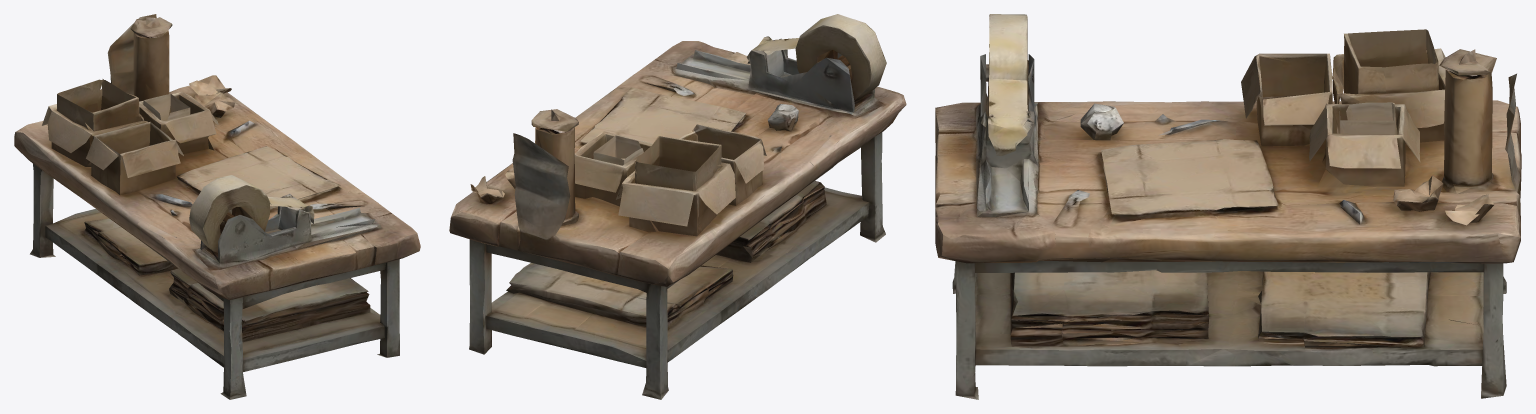
The model's file is bancada.glb.
The picture shows the model from 3 angles, left to right: view 1: azimuth 30°, elevation 25°; view 2: azimuth 150°, elevation 25°; view 3: azimuth 270°, elevation 25°; orthographic projection. The views are drawn at different scales.
Parts seen in each view (by area): view 1: bancada; view 2: bancada; view 3: bancada.
Boxes of the visible parts, left/top/right/bottom form: bancada: left=14, top=14, right=420, bottom=399; bancada: left=449, top=14, right=906, bottom=399; bancada: left=935, top=14, right=1521, bottom=399.
Size of the model in its own units: 0.9843 by 1.01 by 1.77.
1 material, 1 textured.
